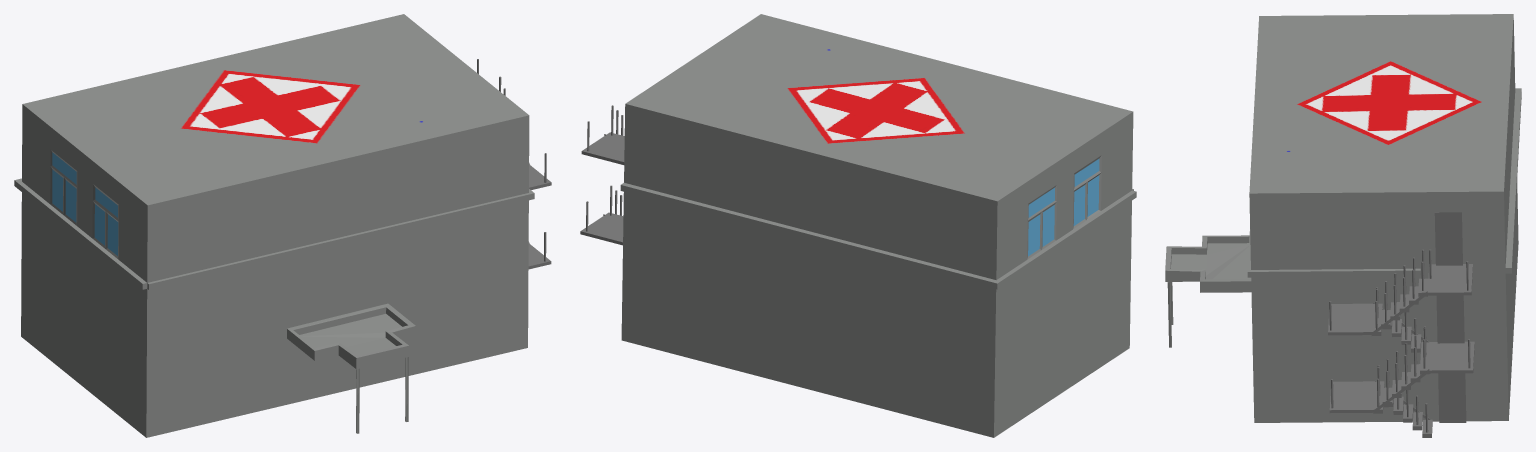
File: hospital.FBX
The picture shows the model from 3 angles, left to right: view 1: azimuth 30°, elevation 25°; view 2: azimuth 150°, elevation 25°; view 3: azimuth 270°, elevation 25°; orthographic projection. The views are drawn at different scales.
Parts seen in each view (by area): view 1: node_id4 (×2), node_id13; view 2: node_id4 (×2), node_id13; view 3: node_id4, node_id13, node_id7, node_id11, node_id9.
Boxes of the visible parts, left/top/right/bottom form: node_id4 (×2): left=14, top=14, right=534, bottom=437; node_id13: left=528, top=162, right=551, bottom=269; node_id4 (×2): left=620, top=14, right=1136, bottom=437; node_id13: left=580, top=132, right=624, bottom=245; node_id4: left=1165, top=14, right=1521, bottom=422; node_id13: left=1328, top=264, right=1474, bottom=437; node_id7: left=1434, top=212, right=1462, bottom=265; node_id11: left=1438, top=373, right=1466, bottom=422; node_id9: left=1436, top=295, right=1464, bottom=343.
Size of the model in its own units: 0.7303 by 0.378 by 0.5178.
64 materials, 1 textured.
